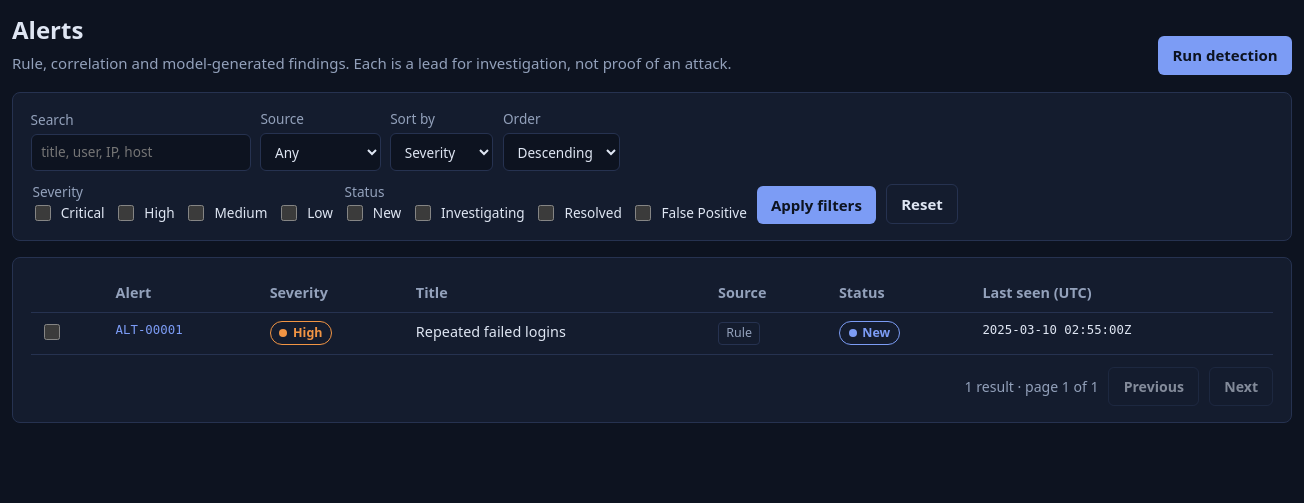
Scenario: Alerts page › runs detection and reports the outcome
Check: the text "Repeated failed logins" is shown, box [406,312,708,354]
Click the button "Run detection" at (1225, 55), box [1158,36,1292,74]
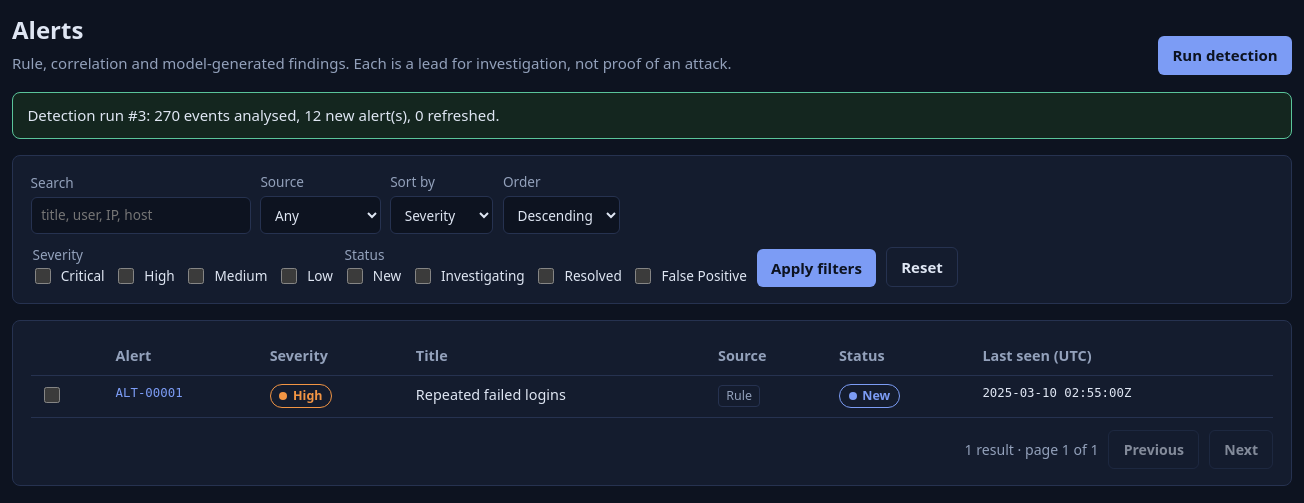
Check: the text "Detection run #3: 270 events analysed, 12 new alert(s), 0 refreshed." is shown, box [12,92,1292,139]
